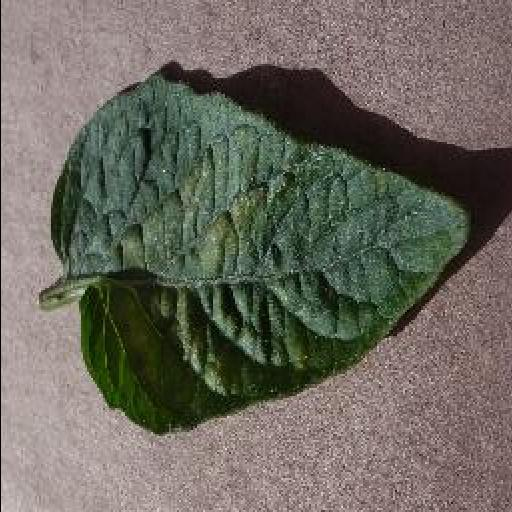disease_tomato: (48, 79, 470, 437)
